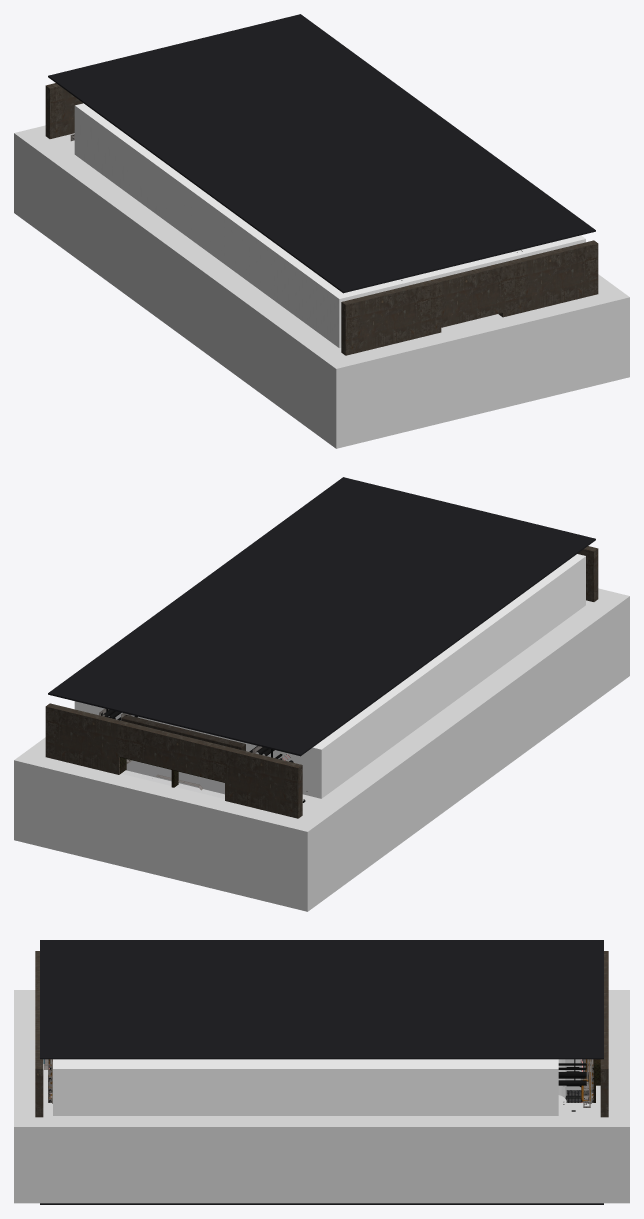
The model's file is cryo.glb.
The picture shows the model from 3 angles, top to bottom: view 1: azimuth 30°, elevation 25°; view 2: azimuth 150°, elevation 25°; view 3: azimuth 270°, elevation 25°; orthographic projection. The views are drawn at different scales.
Visible parts, largest first — view 1: over_ceiling, COL_wall_L, COL_end_s, fog_volume, end_door_wall, COL_end_n, end_window_wall; view 2: over_ceiling, COL_wall_L, COL_end_n, fog_volume, end_window_wall, COL_end_s, ceil_beam_7, end_door_wall; view 3: over_ceiling, COL_wall_R, fog_volume, COL_end_s, COL_end_n, under_floor, end_door_wall, end_window_wall, wall, base_ram_base_ram_albedo_0.
Boxes of the visible parts, bbox=[...] form: over_ceiling: bbox=[48, 14, 595, 293]; COL_wall_L: bbox=[22, 133, 370, 441]; COL_end_s: bbox=[318, 284, 629, 448]; fog_volume: bbox=[74, 103, 585, 348]; end_door_wall: bbox=[341, 240, 598, 355]; COL_end_n: bbox=[14, 125, 74, 225]; end_window_wall: bbox=[45, 83, 82, 138]; over_ceiling: bbox=[48, 477, 595, 756]; COL_wall_L: bbox=[269, 596, 621, 904]; COL_end_n: bbox=[14, 747, 325, 911]; fog_volume: bbox=[74, 554, 585, 798]; end_window_wall: bbox=[45, 703, 302, 818]; COL_end_s: bbox=[586, 588, 629, 687]; ceil_beam_7: bbox=[121, 715, 245, 750]; end_door_wall: bbox=[577, 546, 598, 601]; over_ceiling: bbox=[40, 940, 603, 1059]; COL_wall_R: bbox=[30, 1103, 613, 1203]; fog_volume: bbox=[53, 1059, 558, 1115]; COL_end_s: bbox=[14, 990, 47, 1203]; COL_end_n: bbox=[596, 990, 629, 1203]; under_floor: bbox=[40, 1090, 603, 1204]; end_door_wall: bbox=[35, 951, 43, 1117]; end_window_wall: bbox=[600, 951, 608, 1117]; wall: bbox=[558, 1059, 586, 1111]; base_ram_base_ram_albedo_0: bbox=[580, 1059, 592, 1107].
Bounding box in the file's own units: 10 × 5 × 19.
17 materials, 7 textured.
